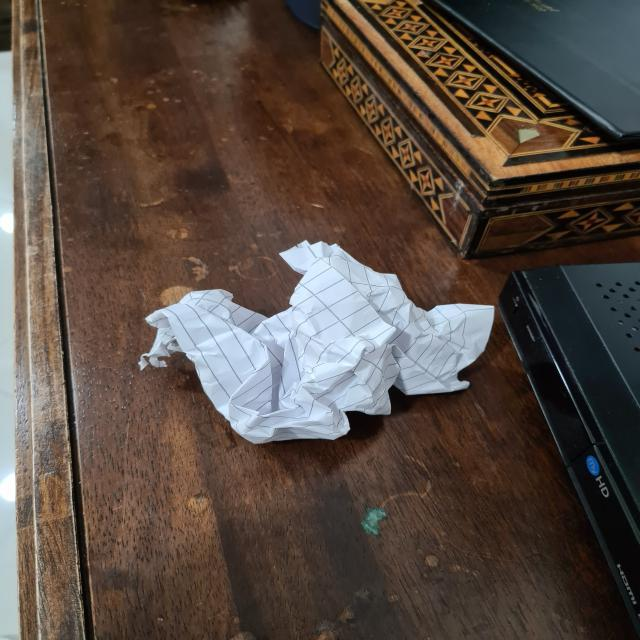Paper: (139, 243, 499, 440)
